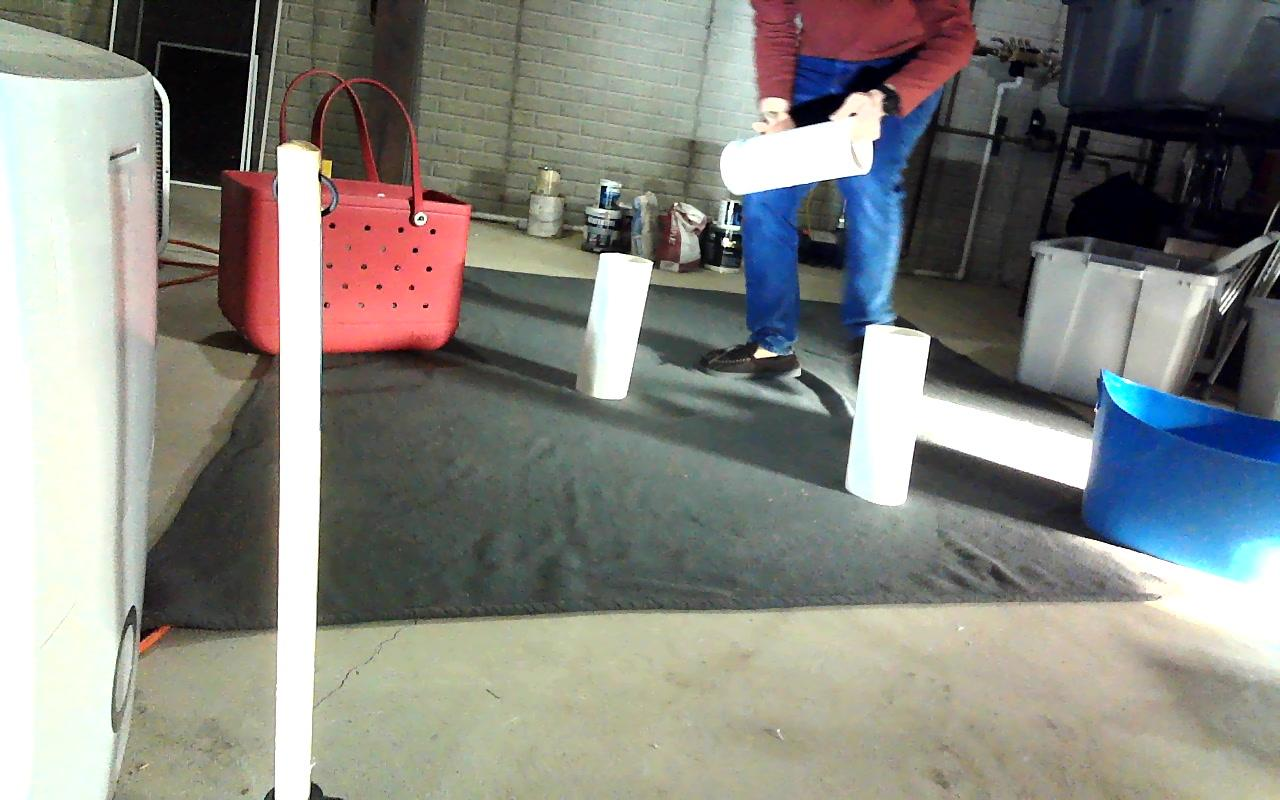coral: (845, 323, 930, 504), (721, 118, 873, 197), (586, 252, 650, 399)
